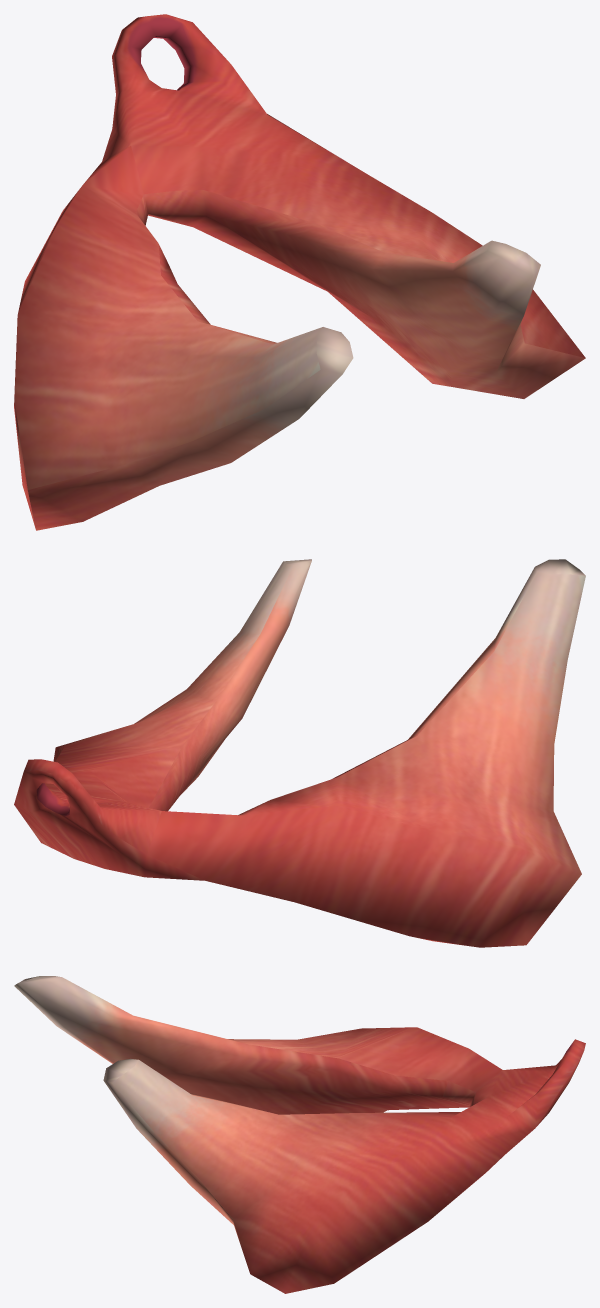
Rendered from Lombar.fbx.
The picture shows the model from 3 angles, top to bottom: view 1: azimuth 30°, elevation 25°; view 2: azimuth 150°, elevation 25°; view 3: azimuth 270°, elevation 25°; orthographic projection. The views are drawn at different scales.
Visible parts, largest first — view 1: Lombar; view 2: Lombar; view 3: Lombar.
Boxes of the visible parts, box(x1,y1,x2,y2) form: Lombar: box(14, 14, 585, 530); Lombar: box(14, 559, 585, 947); Lombar: box(14, 976, 585, 1293).
Size of the model in its own units: 45.75 by 21.77 by 56.02.
